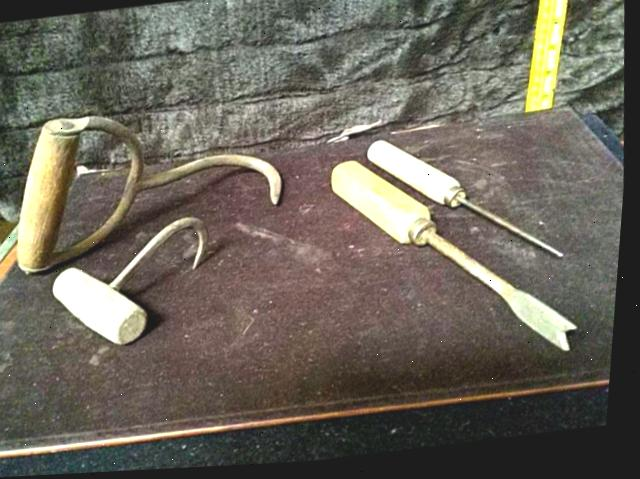ice pick: (322, 138, 594, 384), (7, 94, 292, 275), (361, 124, 576, 284), (49, 216, 217, 352)
